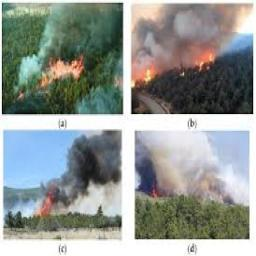Heavy smoke: (136, 5, 234, 59), (137, 133, 221, 195), (52, 132, 121, 207)
Low smoke: (42, 6, 114, 52), (12, 51, 42, 93)
Medium fire: (49, 58, 86, 83), (40, 184, 54, 222), (196, 48, 220, 70), (136, 68, 156, 90), (149, 183, 167, 206)
